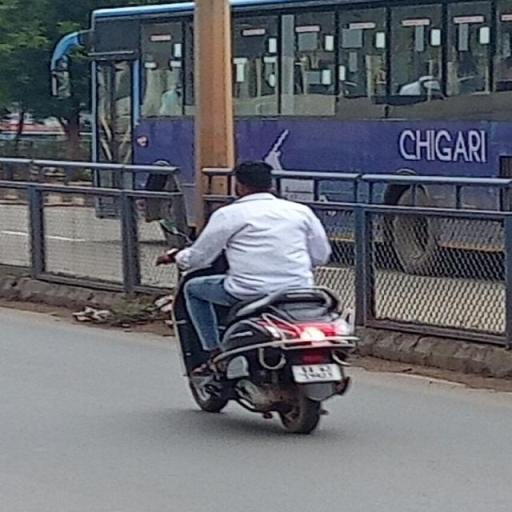bike: (155, 156, 366, 434)
withouthelmet: (234, 162, 273, 192)
